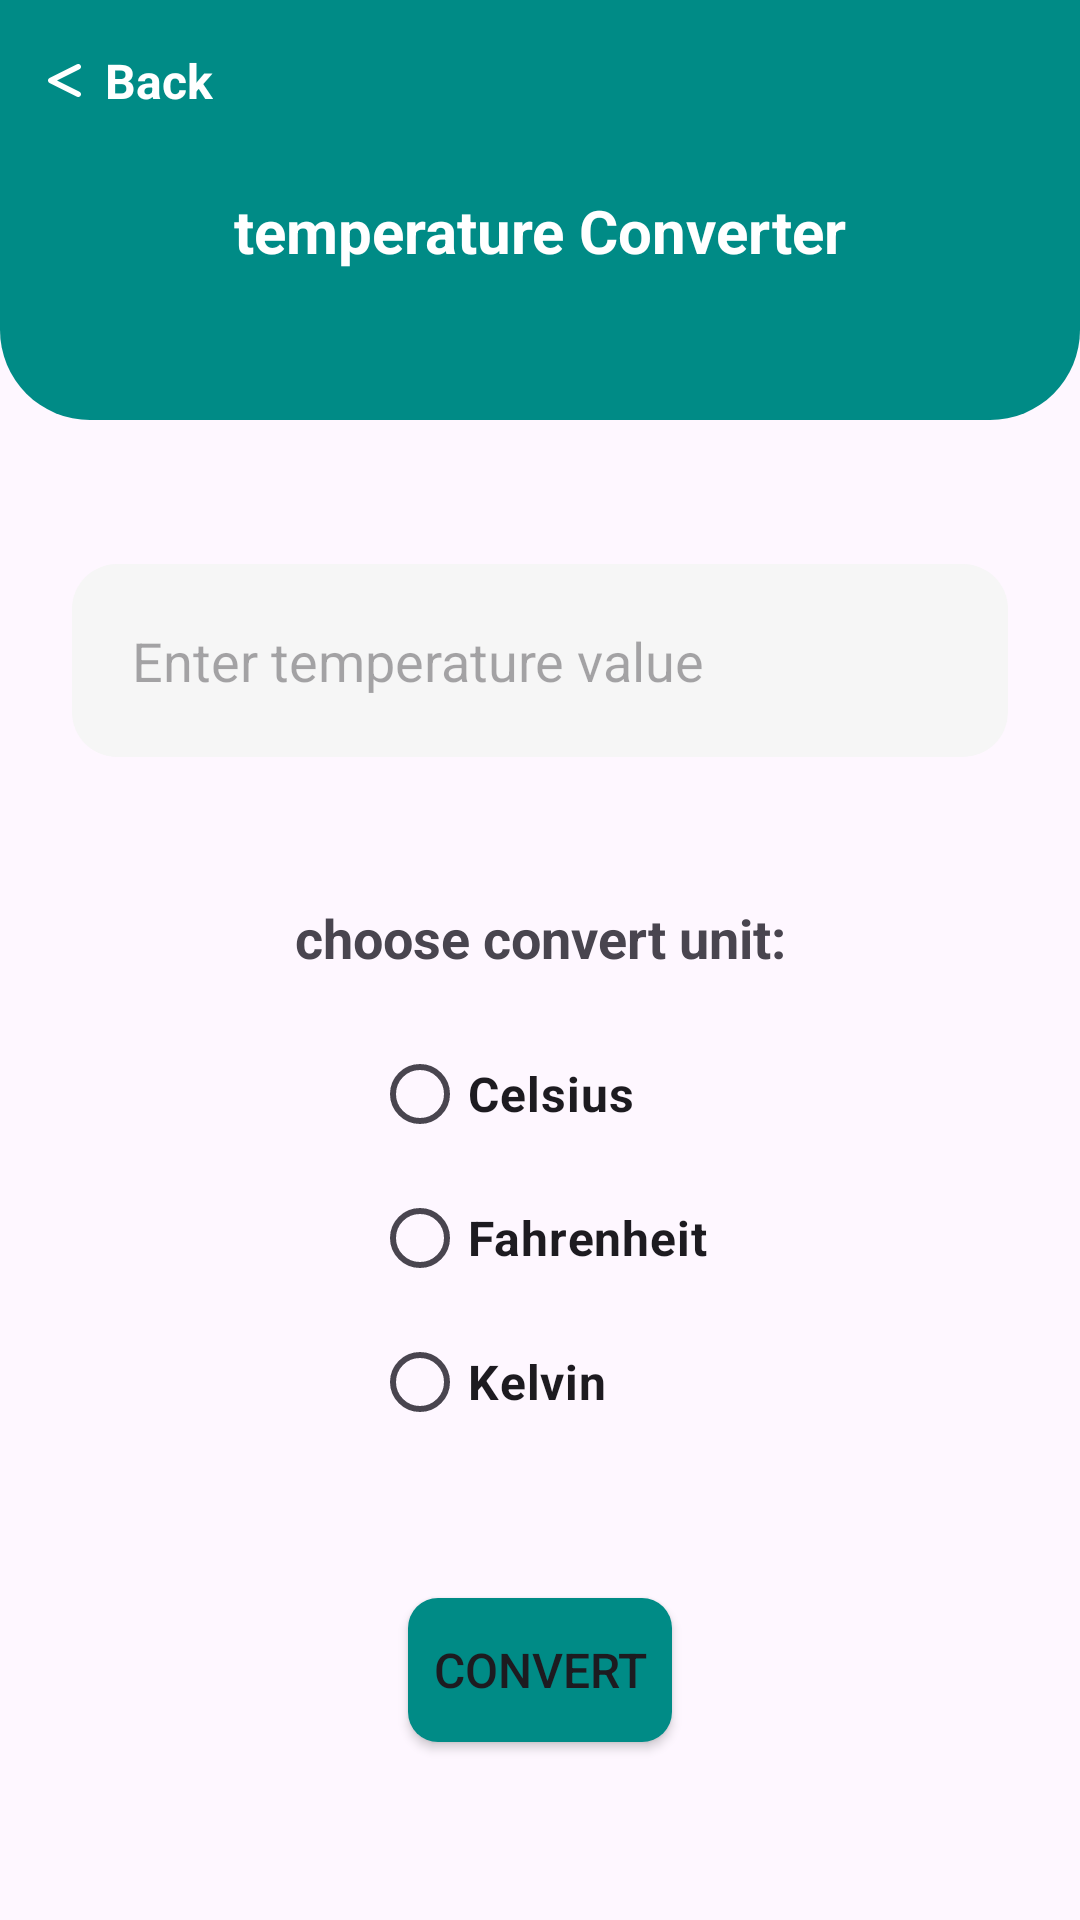

Screen size 1080 x 1920. Icon name, then its box in pixels as (x1, y1, x2, y2):
less than: (48, 64, 81, 97)
